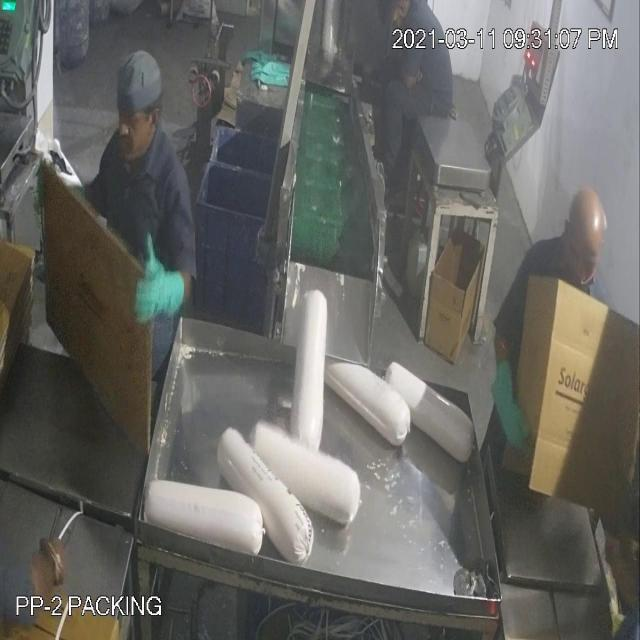Gloves: (43, 98, 512, 404)
